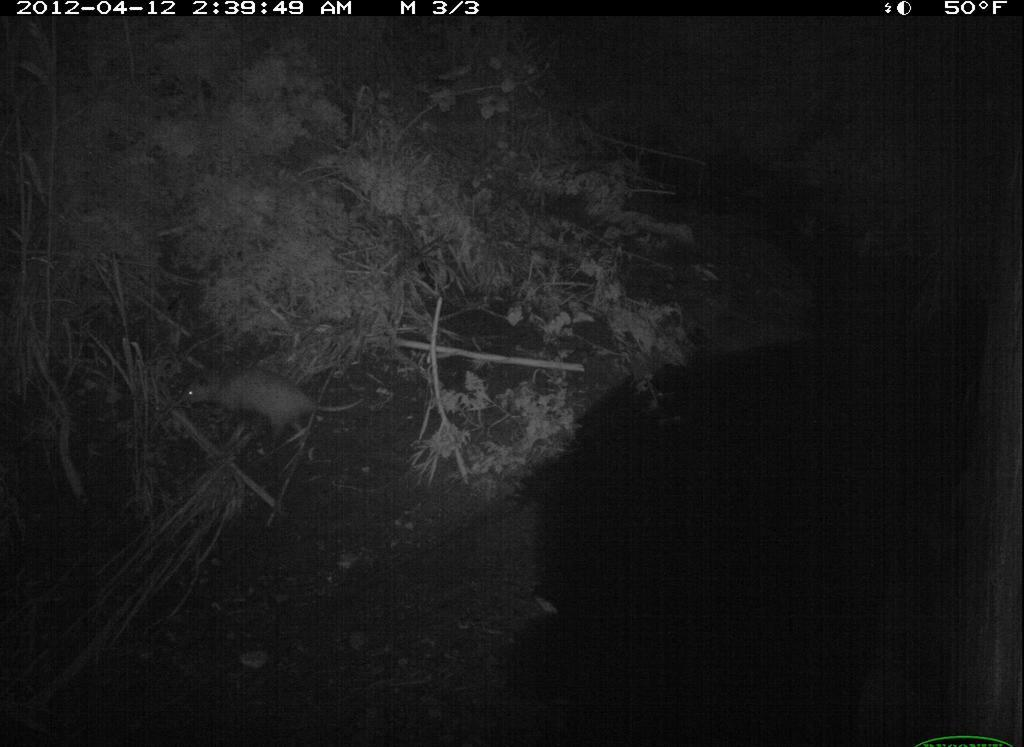opossum: (175, 354, 401, 460)
